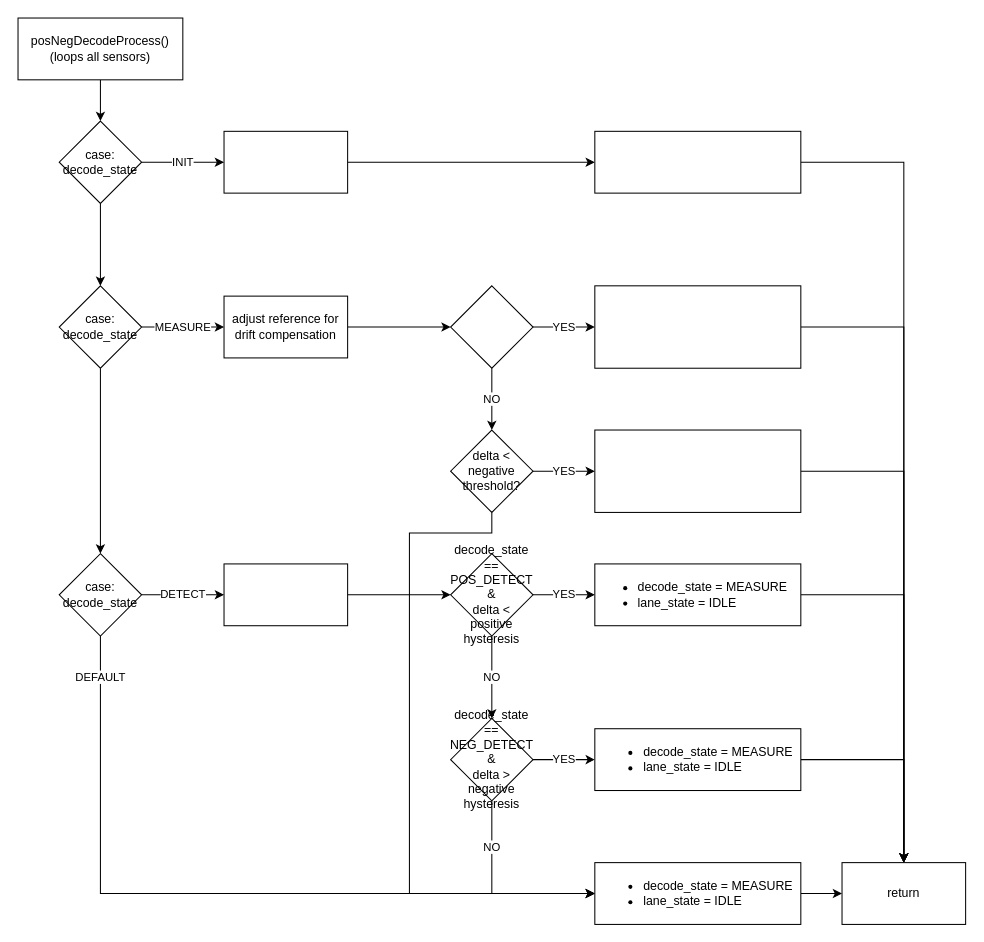
Some shapes in this 984 by 942 pixel diagram are drawn without their labels. Each missing label, with the centre of its shape:
decode_state = MEASURE: the point at 697,161
delta > positive threshold?: the point at 491,326
disable reference drift compensation: the point at 285,594
initialize reference: the point at 285,161
wait DI count decode_state = DETECT lane_detect = NEG_DETECT: the point at 697,470
wait DI count decode_state = DETECT lane_detect = POS_DETECT: the point at 697,326
